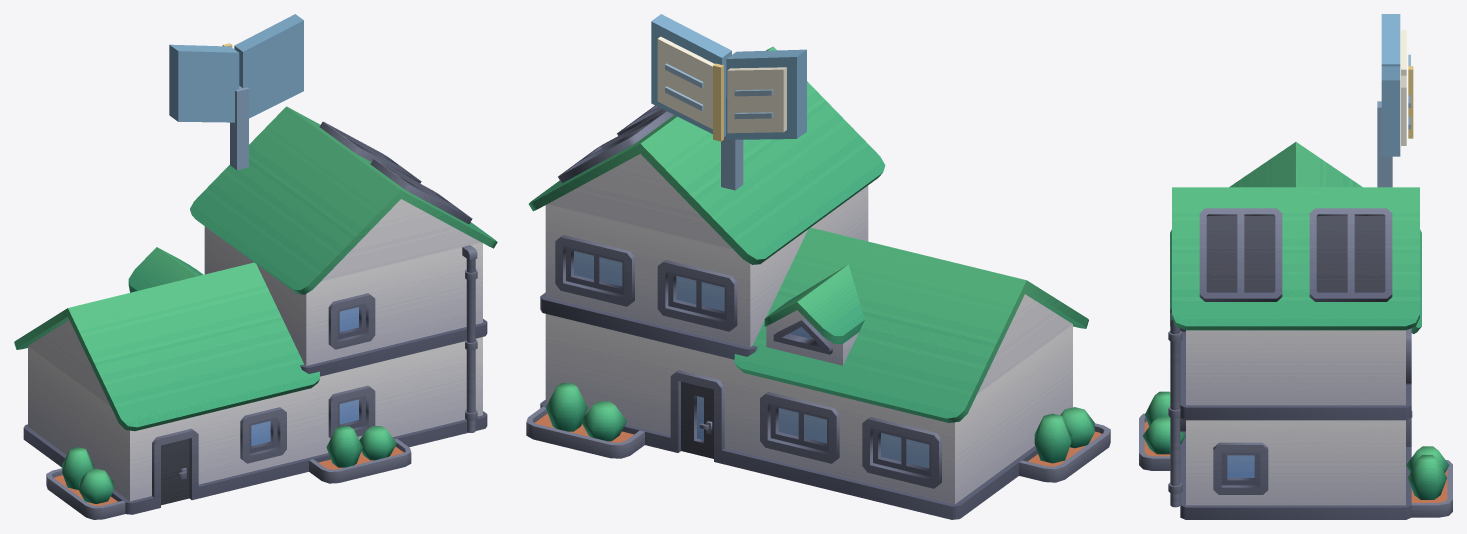
The model's file is school.glb.
The picture shows the model from 3 angles, left to right: view 1: azimuth 30°, elevation 25°; view 2: azimuth 150°, elevation 25°; view 3: azimuth 270°, elevation 25°; orthographic projection. The views are drawn at different scales.
Visible parts, largest first — view 1: building-type-b, Project addition blue open-book cover (×2), Project addition book sign support; view 2: building-type-b, Project addition cream open-book page (×2), Project addition blue open-book cover (×2), Project addition book sign support, Project addition gold book spine; view 3: building-type-b, Project addition blue open-book cover (×2), Project addition book sign support, Project addition cream open-book page, Project addition gold book spine.
Part boxes in pixels (left/top/right/bottom): building-type-b: left=14, top=106, right=497, bottom=519; Project addition blue open-book cover (×2): left=169, top=14, right=303, bottom=122; Project addition book sign support: left=230, top=86, right=248, bottom=170; building-type-b: left=526, top=46, right=1110, bottom=519; Project addition cream open-book page (×2): left=657, top=36, right=786, bottom=133; Project addition blue open-book cover (×2): left=651, top=14, right=806, bottom=139; Project addition book sign support: left=721, top=97, right=743, bottom=190; Project addition gold book spine: left=713, top=63, right=723, bottom=141; building-type-b: left=1139, top=142, right=1452, bottom=519; Project addition blue open-book cover (×2): left=1381, top=14, right=1400, bottom=156; Project addition book sign support: left=1377, top=101, right=1392, bottom=187; Project addition cream open-book page: left=1401, top=75, right=1406, bottom=145; Project addition gold book spine: left=1408, top=66, right=1413, bottom=138.
Size of the model in its own units: 4.3 by 3.68 by 2.68.
6 materials, 1 textured.
